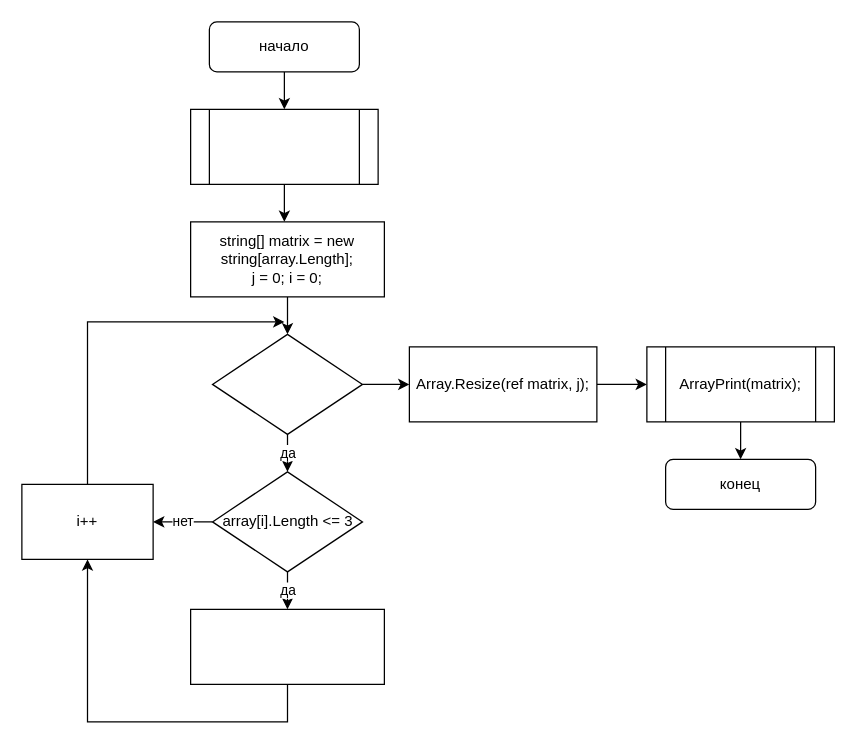
Some shapes in this 856 by 754 pixel diagram are drawn without their labels. The shapes that lost their labels are listed below. From the top down, each one's centre as x and y in pixels, then its label:
point 283,146: string[] array = ArrayCreator();
point 286,383: i < array.Length
point 286,646: matrix[j] = array[i]; j++;
